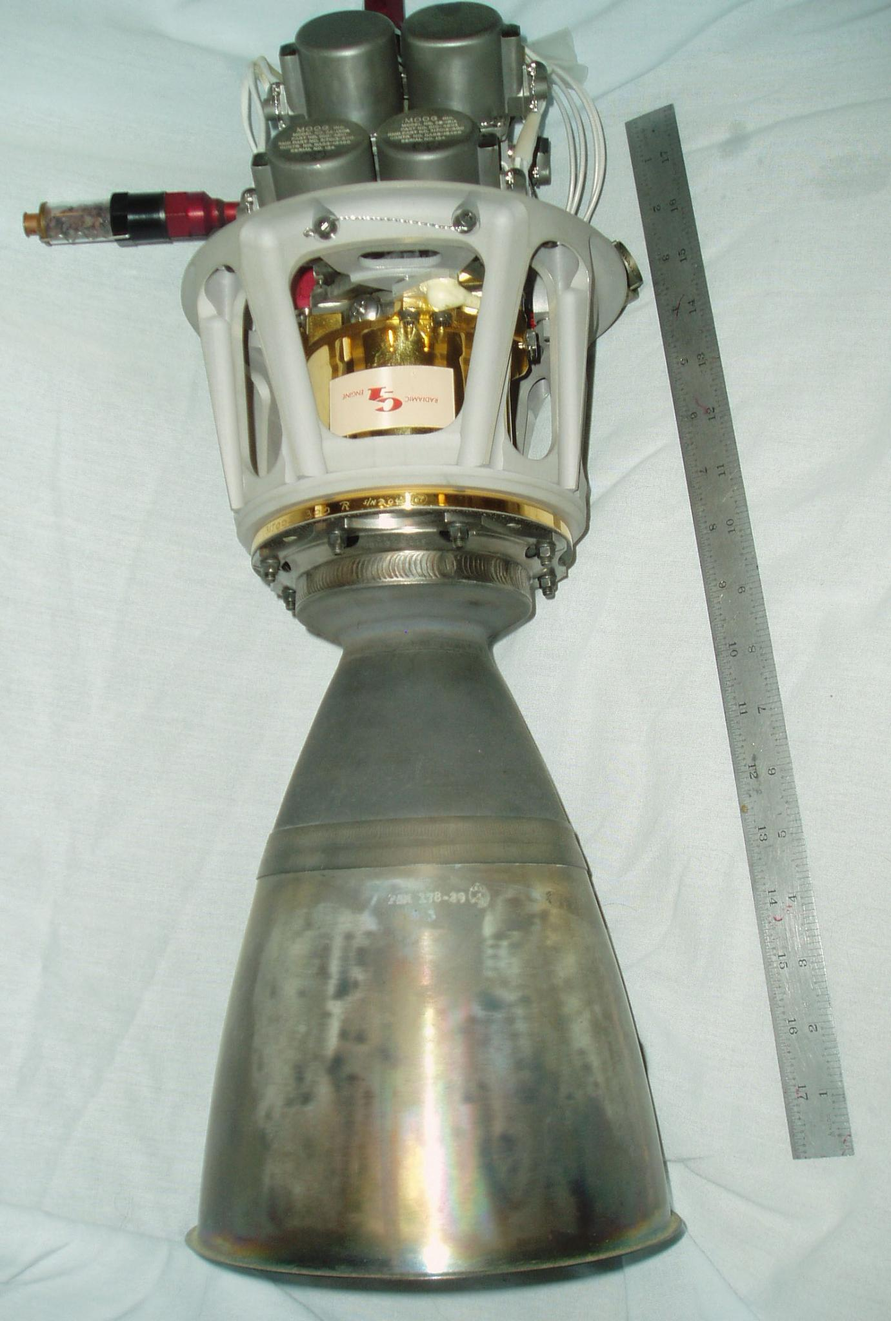thruster: (190, 630, 690, 1292)
